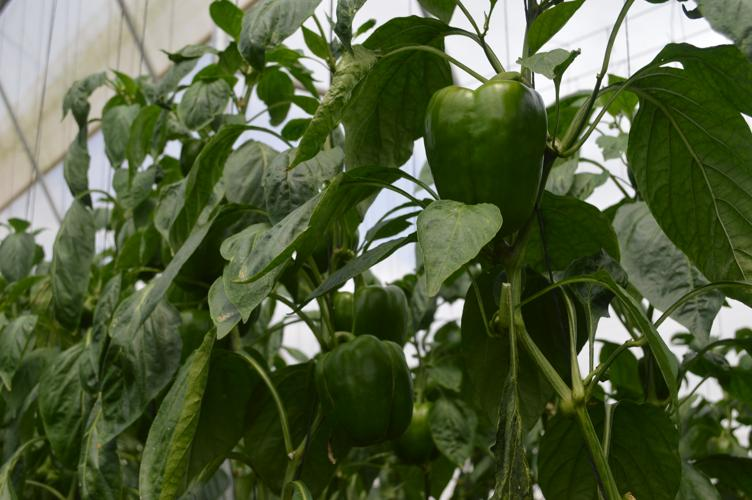BellPepper: (423, 81, 545, 232), (314, 336, 411, 447), (354, 283, 413, 341), (396, 404, 439, 462), (168, 305, 221, 351), (323, 291, 354, 334)
